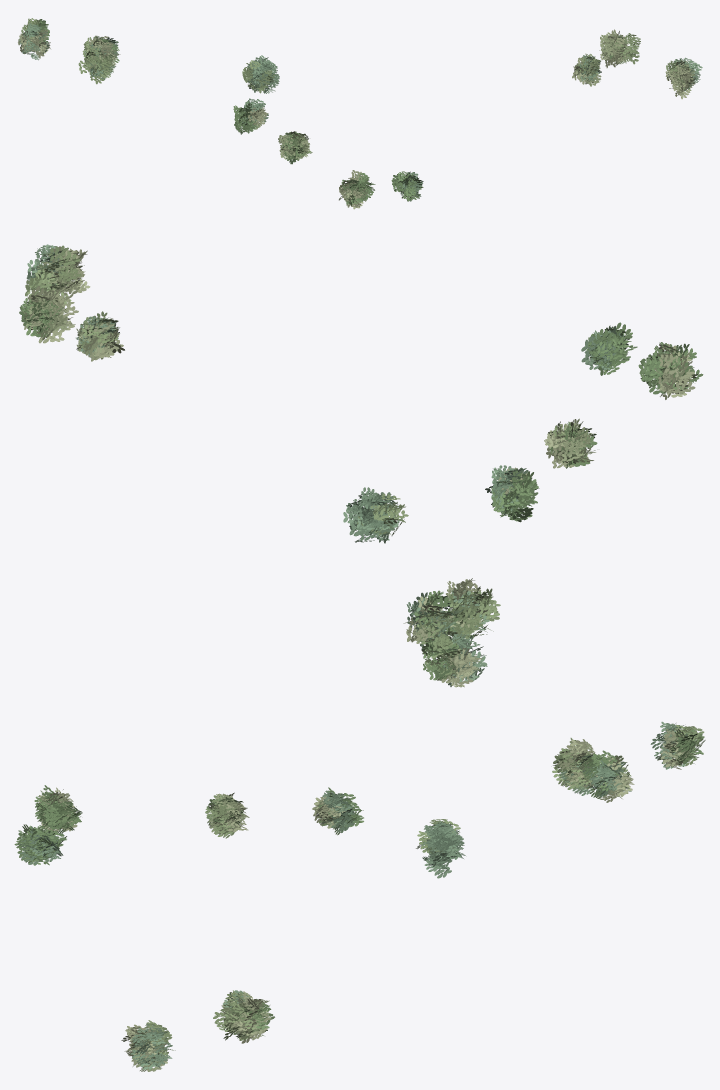
File: campus-tree--4_-2-far.glb
3 renders of one model, top to bottom at view 1: azimuth 30°, elevation 25°; view 2: azimuth 150°, elevation 25°; view 3: azimuth 270°, elevation 25°, orthographic. The views are drawn at different scales.
Visible parts, largest first — view 1: Campus leaf canopy; view 2: Campus leaf canopy; view 3: Campus leaf canopy.
Boxes of the visible parts, box(x1,y1,x2,y2) form: Campus leaf canopy: box(18, 18, 702, 209); Campus leaf canopy: box(19, 244, 703, 687); Campus leaf canopy: box(14, 721, 705, 1071).
Bounding box in the file's own units: 79.06 × 7.69 × 71.75.
Materials: 1 (1 with a texture image).
